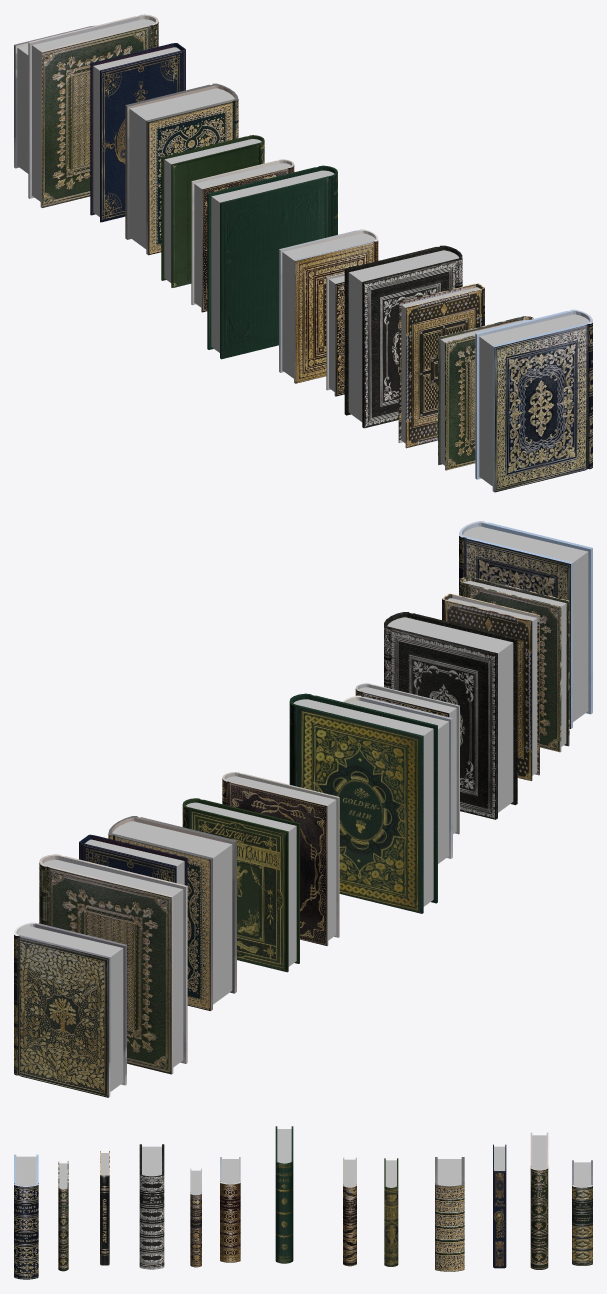
Rendered from books.fbx.
3 renders of one model, top to bottom at view 1: azimuth 30°, elevation 25°; view 2: azimuth 150°, elevation 25°; view 3: azimuth 270°, elevation 25°, orthographic. The views are drawn at different scales.
Visible parts, largest first — view 1: Book_11, Book_9, Book_13, Book_3, Book_8, Book_10, Book_1, Book_4, Book_7, Book_5, Book_6, Book_2 (+1 smaller); view 2: Book_9, Book_13, Book_12, Book_3, Book_7, Book_8, Book_11, Book_6, Book_5, Book_4, Book_1, Book_10 (+1 smaller); view 3: Book_8, Book_3, Book_11, Book_13, Book_9, Book_12, Book_1, Book_10, Book_7, Book_6, Book_5, Book_2 (+1 smaller).
Part boxes in pixels (x1=…): Book_11: x1=475, y1=309, x2=592, y2=492; Book_9: x1=207, y1=165, x2=337, y2=359; Book_13: x1=28, y1=14, x2=158, y2=207; Book_3: x1=344, y1=245, x2=462, y2=428; Book_8: x1=125, y1=83, x2=238, y2=255; Book_10: x1=90, y1=43, x2=185, y2=222; Book_1: x1=279, y1=229, x2=378, y2=383; Book_4: x1=398, y1=283, x2=484, y2=448; Book_7: x1=161, y1=135, x2=264, y2=287; Book_5: x1=438, y1=316, x2=533, y2=470; Book_6: x1=191, y1=159, x2=294, y2=312; Book_2: x1=326, y1=273, x2=344, y2=396; Book_9: x1=289, y1=693, x2=437, y2=913; Book_13: x1=39, y1=854, x2=187, y2=1074; Book_12: x1=14, y1=922, x2=126, y2=1097; Book_3: x1=384, y1=612, x2=517, y2=819; Book_7: x1=182, y1=798, x2=299, y2=972; Book_8: x1=108, y1=816, x2=236, y2=1011; Book_11: x1=459, y1=521, x2=592, y2=728; Book_6: x1=222, y1=772, x2=339, y2=945; Book_5: x1=460, y1=576, x2=569, y2=752; Book_4: x1=442, y1=593, x2=539, y2=780; Book_1: x1=342, y1=695, x2=452, y2=863; Book_10: x1=79, y1=834, x2=187, y2=885; Book_8: x1=435, y1=1157, x2=464, y2=1271; Book_3: x1=139, y1=1144, x2=164, y2=1269; Book_11: x1=14, y1=1154, x2=38, y2=1279; Book_13: x1=530, y1=1132, x2=548, y2=1269; Book_9: x1=275, y1=1126, x2=293, y2=1263; Book_12: x1=572, y1=1160, x2=592, y2=1265; Book_1: x1=220, y1=1157, x2=240, y2=1262; Book_10: x1=493, y1=1144, x2=506, y2=1268; Book_7: x1=384, y1=1158, x2=398, y2=1266; Book_6: x1=343, y1=1157, x2=356, y2=1266; Book_5: x1=58, y1=1161, x2=68, y2=1271; Book_2: x1=190, y1=1168, x2=201, y2=1267.
Bounding box in the file's own units: 32.87 × 28.37 × 150.
